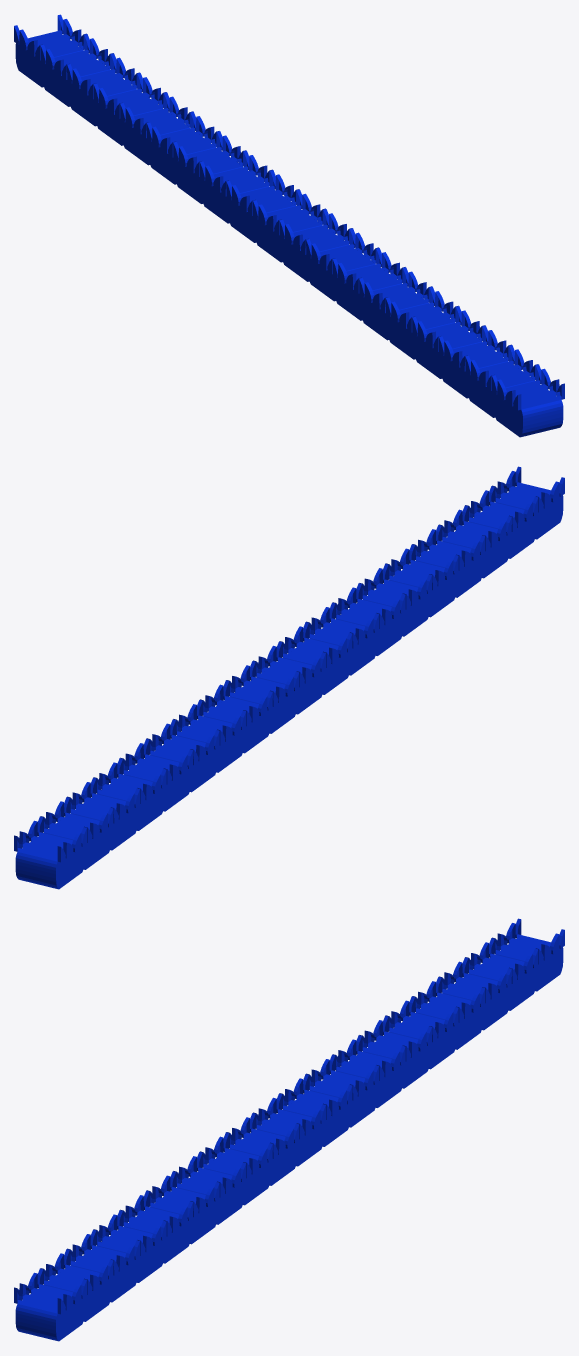
File: snake.glb
3 views of the same model, one above another, from view 1: azimuth 30°, elevation 25°; view 2: azimuth 150°, elevation 25°; view 3: azimuth 330°, elevation 25° (orthographic).
Parts seen in each view (by area): view 1: Plane; view 2: Plane; view 3: Plane.
Part boxes in pixels (<box>): Plane: <box>14,14,564,437</box>; Plane: <box>14,466,564,889</box>; Plane: <box>14,918,564,1341</box>.
Bounding box in the file's own units: 2.34 × 2.1 × 43.49.
